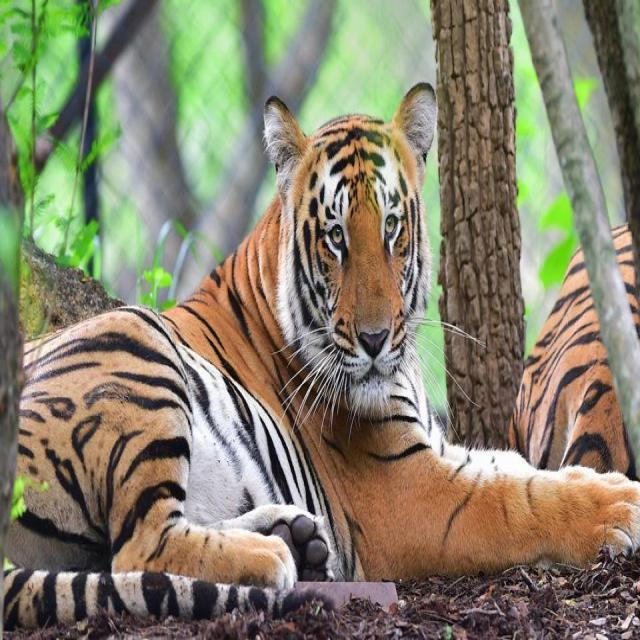Tiger: (3, 79, 638, 626)
